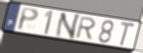1: (43, 9, 54, 36)
8: (98, 20, 114, 45)
N: (53, 13, 82, 41)
P: (17, 7, 40, 32)
R: (74, 16, 98, 42)
T: (119, 20, 137, 47)
